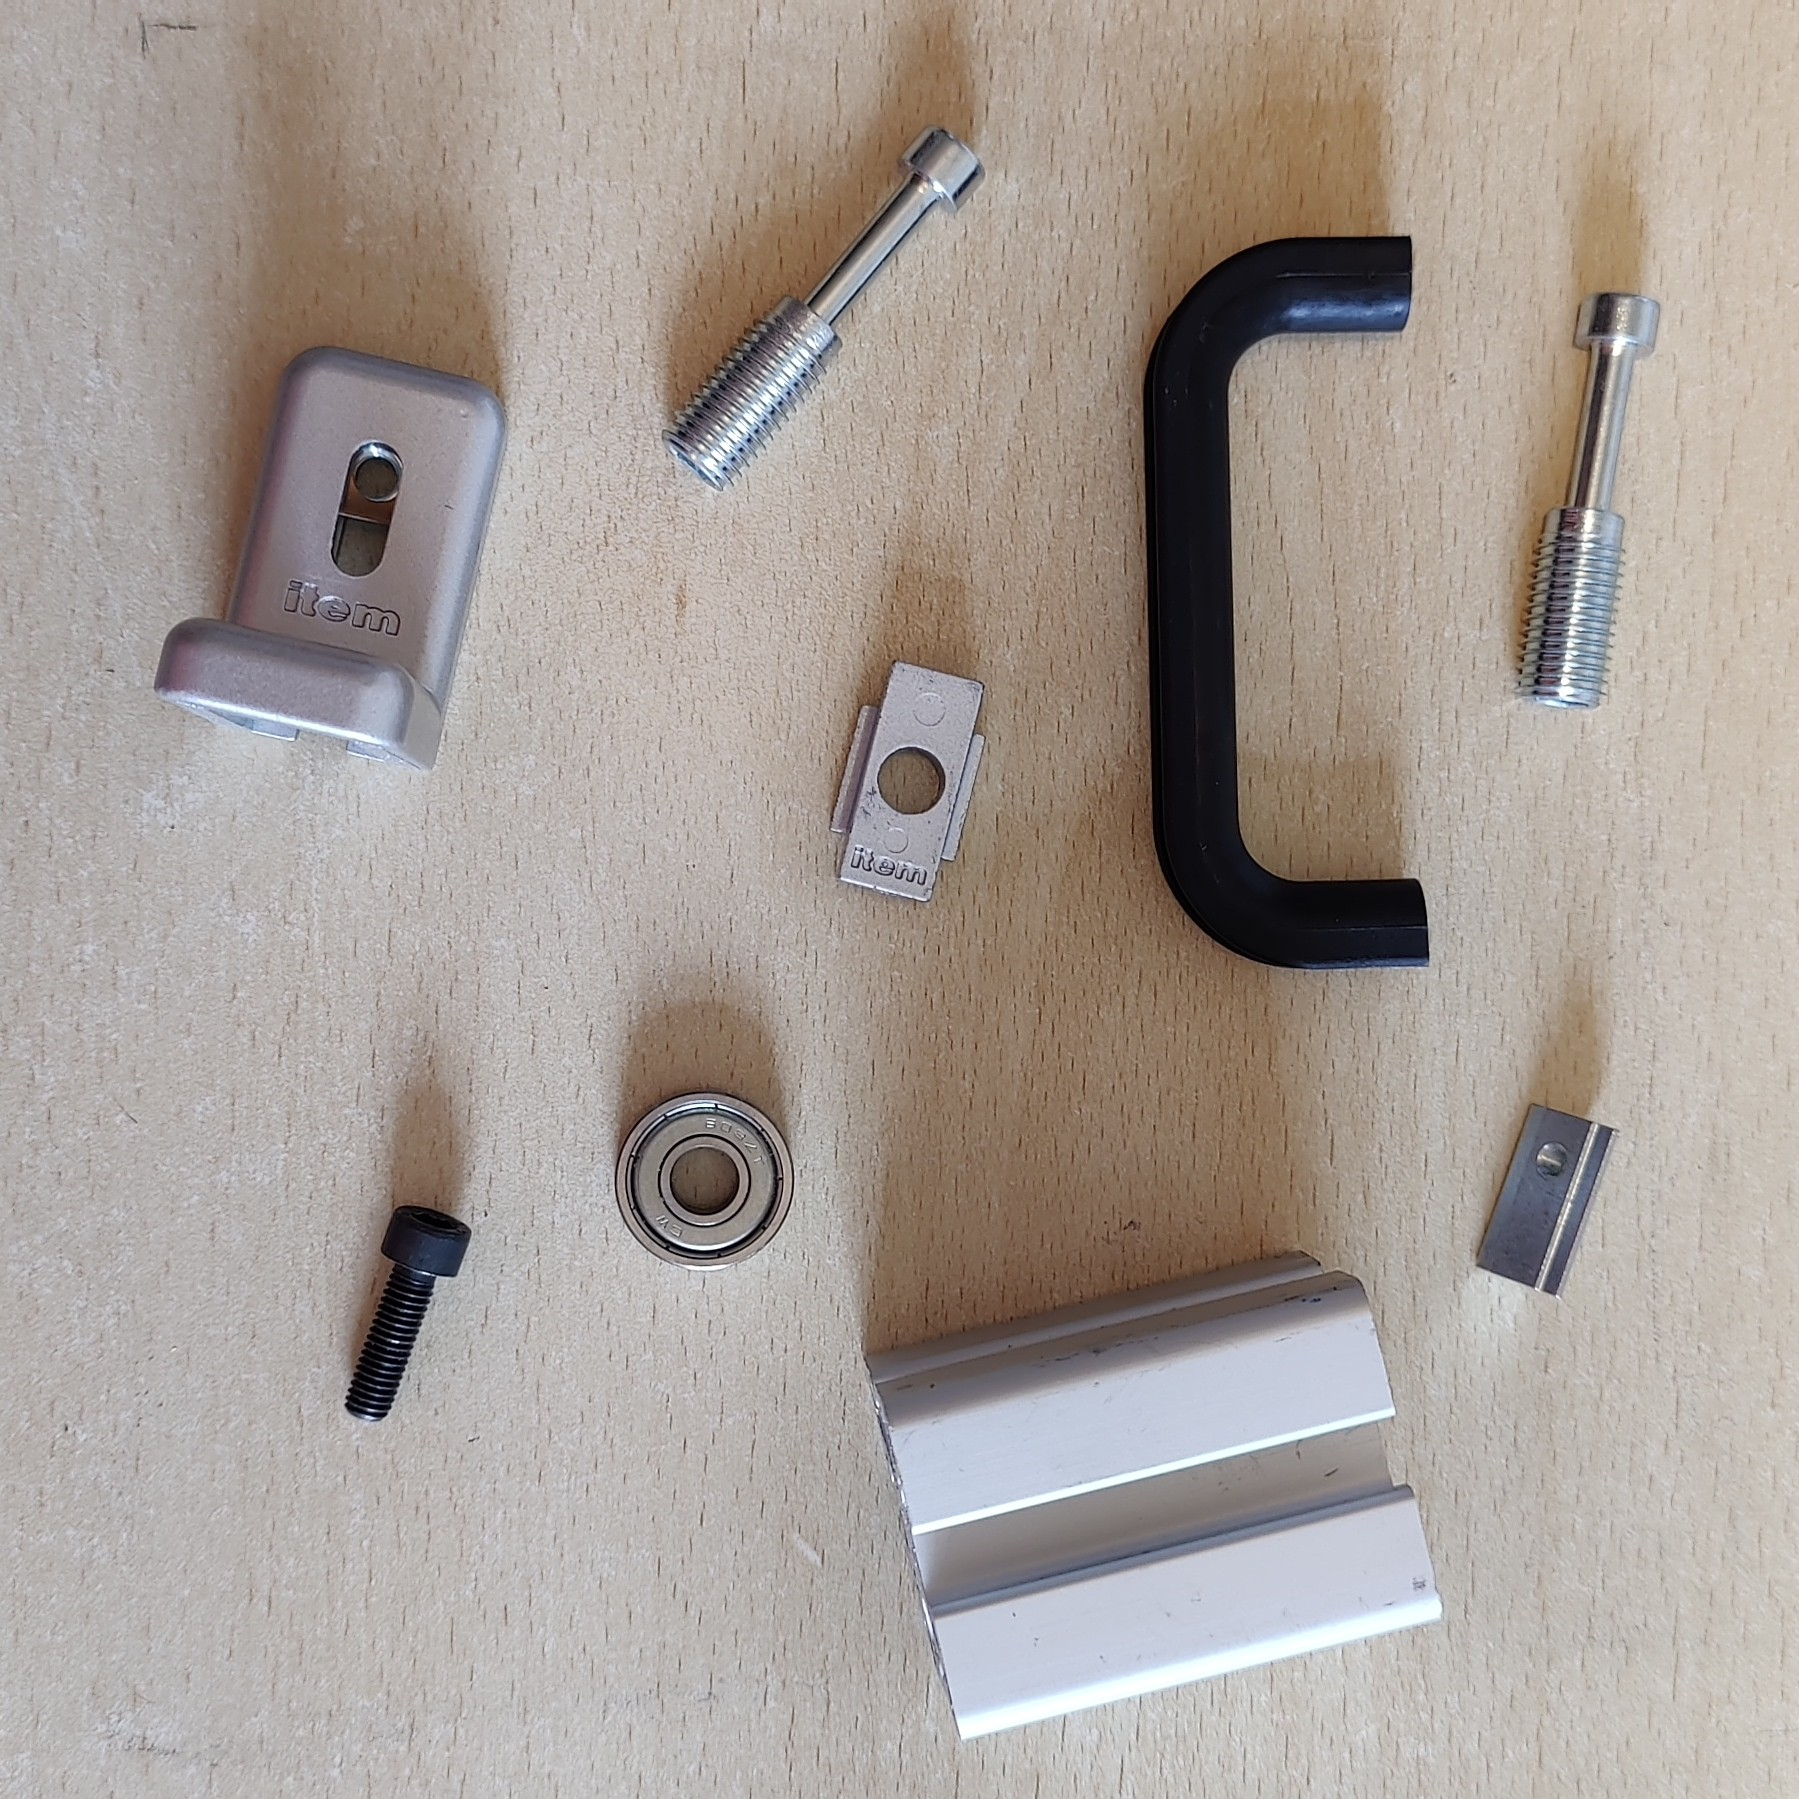Aluminium Extension: (860, 1249, 1442, 1745)
Ball Bearing: (614, 1084, 792, 1273)
Multiwinkel: (153, 341, 511, 776)
Pull Handle: (1142, 232, 1435, 972)
Shoulder Socket Head Cap Screw: (657, 124, 988, 496), (1511, 288, 1664, 710)
Socket Head Cap Screw: (344, 1203, 470, 1427)
T Nut Square: (829, 657, 988, 906)
T Spring Nut: (1473, 1097, 1623, 1300)
